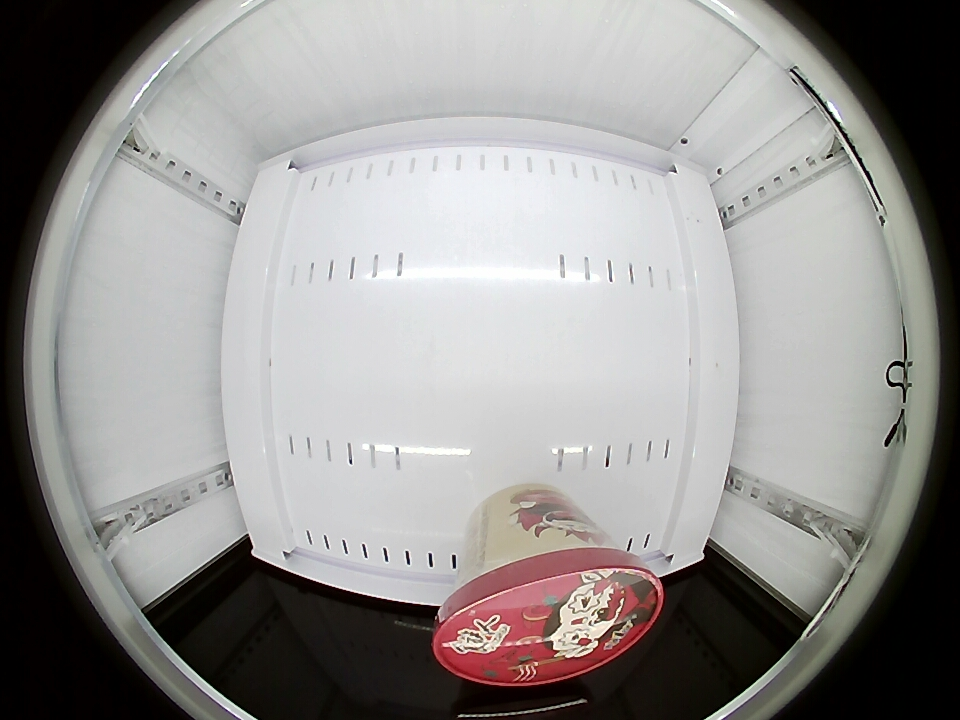suanlafen: (432, 536, 665, 686)
